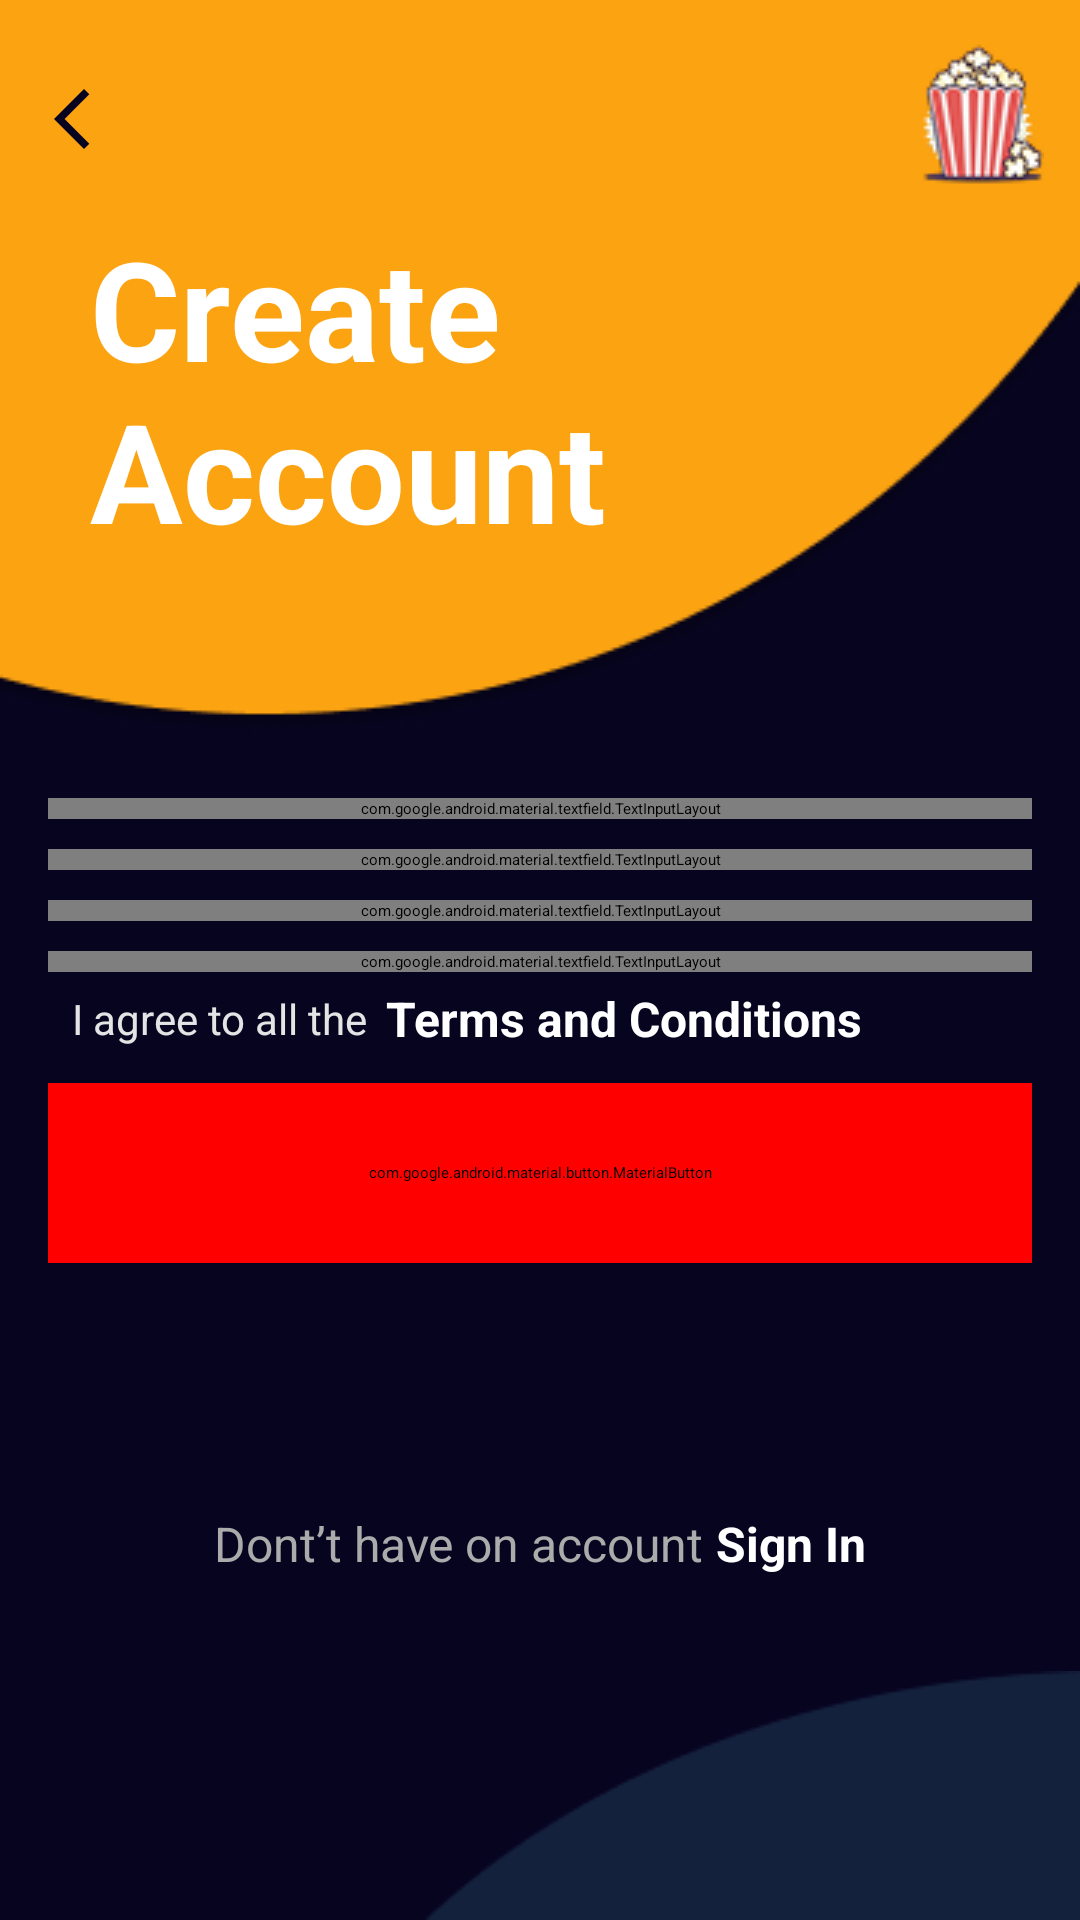

Icons on this 1080 x 1920 Android screen, each with the point to tap as point (x, y):
arrow: point (71, 119)
popcorn: point (983, 115)
